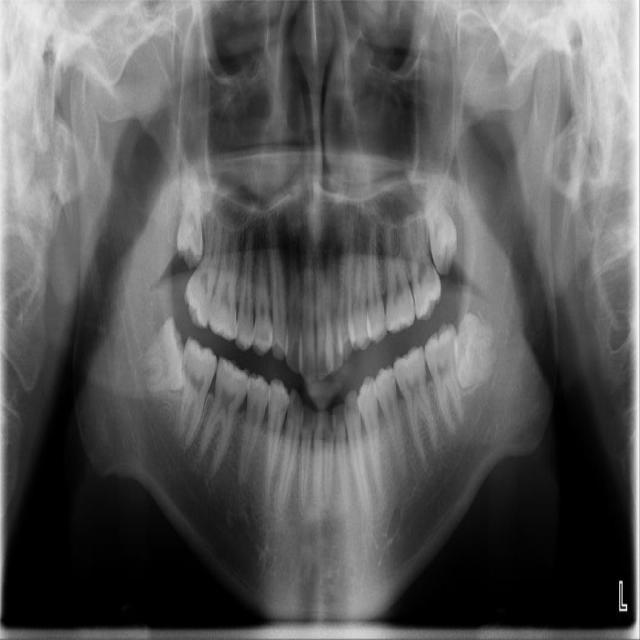3M ESPE Implant: (173, 152, 205, 270)
73: (626, 622, 634, 626)
BioHorizons Implant: (400, 209, 447, 323)
BioLife Implant: (422, 180, 463, 276)
Biomet 3i Implant: (454, 314, 497, 387)
Blue Sky Bio Implant: (421, 322, 466, 434)
Caries: (179, 208, 228, 329)
Implant: (177, 337, 220, 448)
Keystone Dental Implant: (139, 314, 192, 395)
